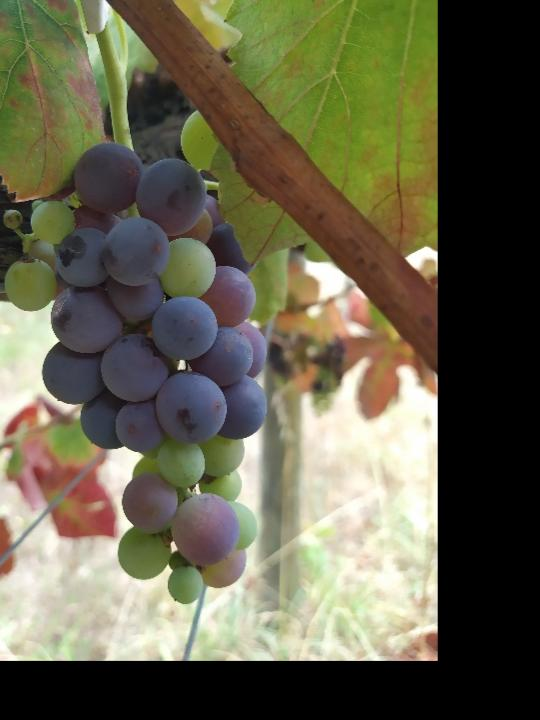grape: (0, 140, 272, 607)
